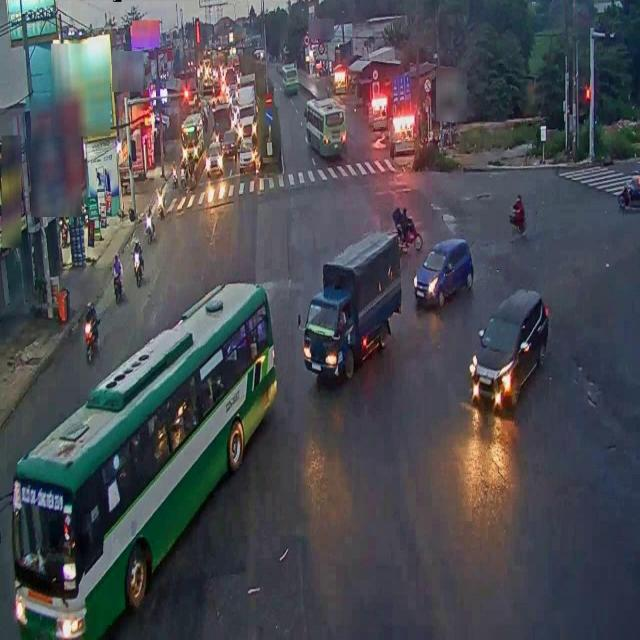bus: (19, 278, 282, 637)
car: (418, 236, 480, 312)
motorcycle: (128, 198, 141, 240)
truck: (302, 239, 406, 377)
